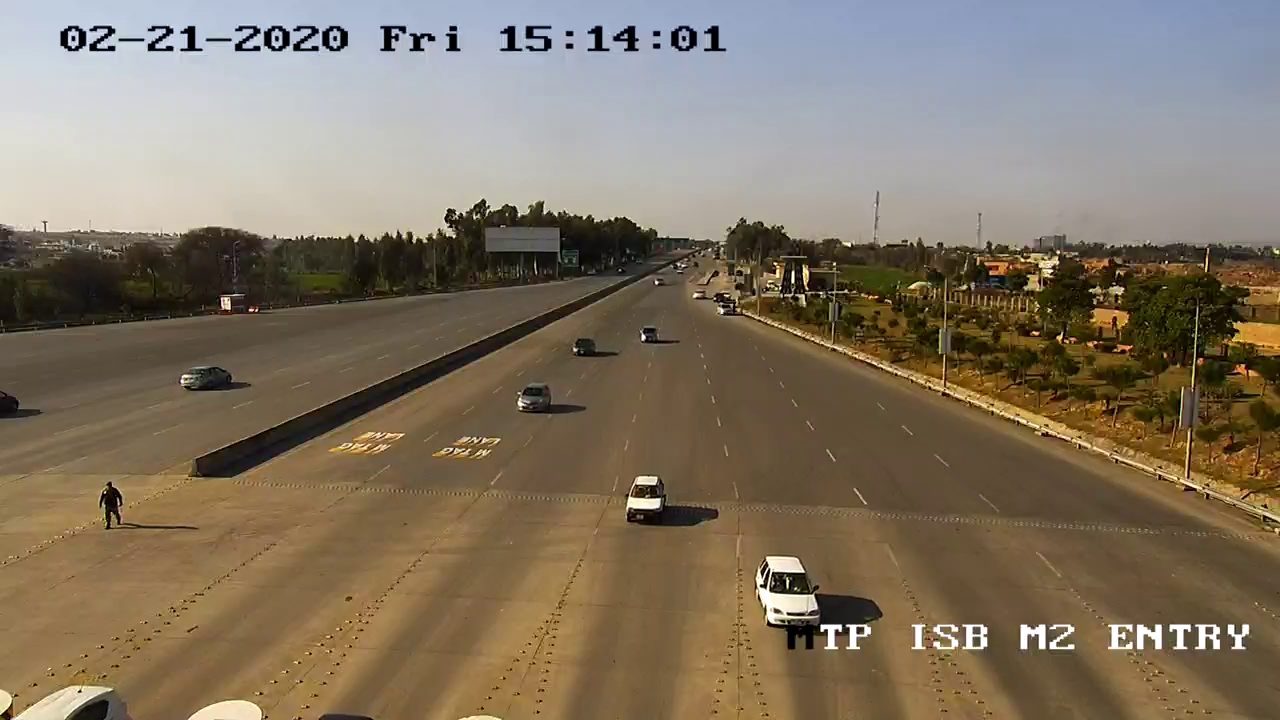f1: (747, 546, 827, 634), (614, 467, 677, 530)
